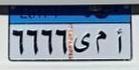6: (54, 27, 69, 54), (11, 29, 24, 56), (40, 29, 53, 55), (26, 29, 39, 54)
alif: (115, 26, 124, 54)
meem: (93, 30, 108, 56)
yaa: (74, 32, 91, 54)
